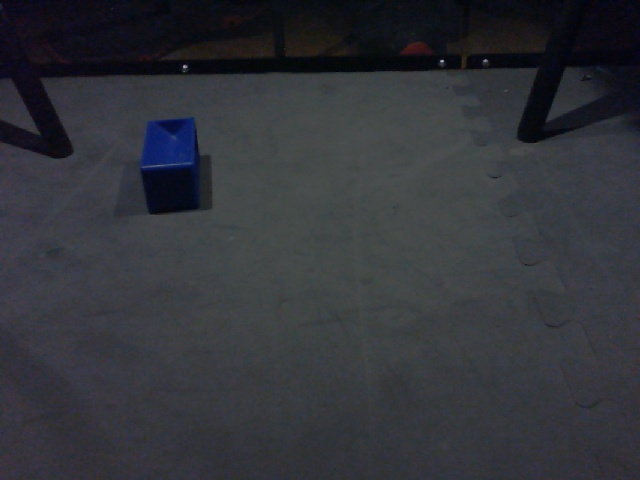BlueSample: (137, 118, 205, 213)
